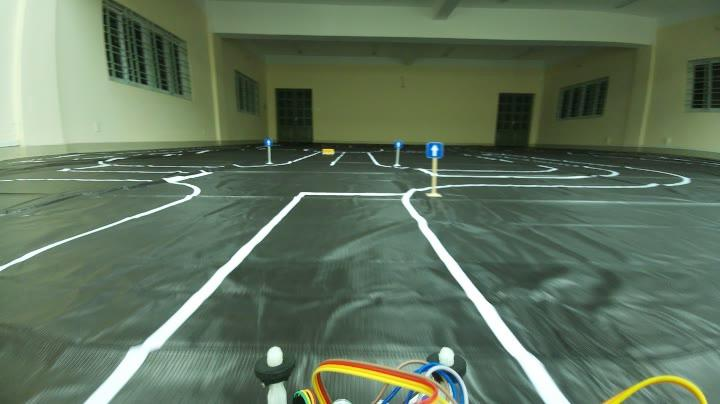onewayroad: (425, 140, 443, 162), (262, 136, 272, 146), (393, 139, 402, 148)
roadblock: (320, 142, 336, 156)
